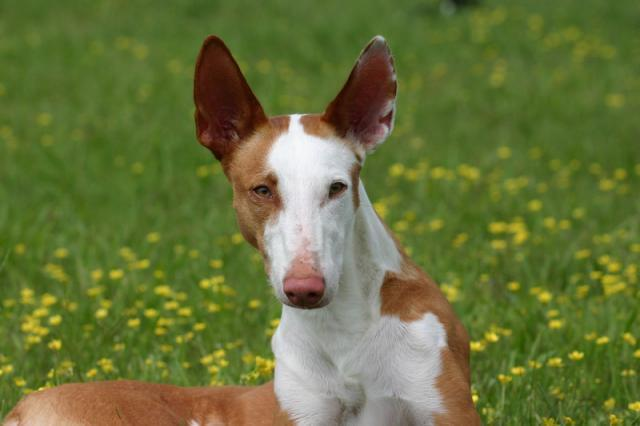Ibizan_hound: (3, 34, 484, 424)
